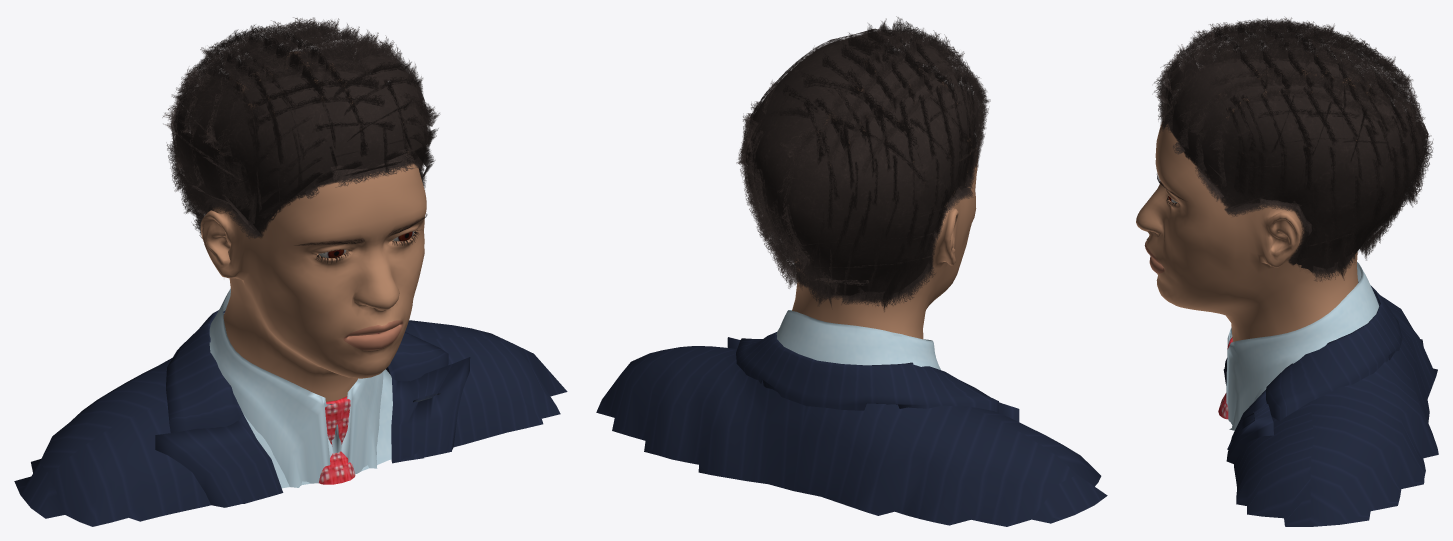
The model's file is man-09.glb.
The picture shows the model from 3 angles, left to right: view 1: azimuth 30°, elevation 25°; view 2: azimuth 150°, elevation 25°; view 3: azimuth 270°, elevation 25°; orthographic projection. The views are drawn at different scales.
Visible parts, largest first — view 1: mpfb-face.toigo_male_suit_3, mpfb-face.afro01, mpfb-face; view 2: mpfb-face.toigo_male_suit_3, mpfb-face.afro01, mpfb-face; view 3: mpfb-face.afro01, mpfb-face.toigo_male_suit_3, mpfb-face.
Boxes of the visible parts, x1,y1,x2,y2 form: mpfb-face.toigo_male_suit_3: (14, 288, 567, 526); mpfb-face.afro01: (162, 17, 439, 238); mpfb-face: (200, 51, 426, 401); mpfb-face.toigo_male_suit_3: (596, 310, 1107, 526); mpfb-face.afro01: (736, 16, 990, 311); mpfb-face: (792, 71, 977, 339); mpfb-face.afro01: (1154, 17, 1433, 281); mpfb-face.toigo_male_suit_3: (1218, 262, 1438, 526); mpfb-face: (1136, 70, 1367, 341).
Size of the model in its own units: 0.4609 by 0.3594 by 0.2571.
Materials: 9 (7 with a texture image).
